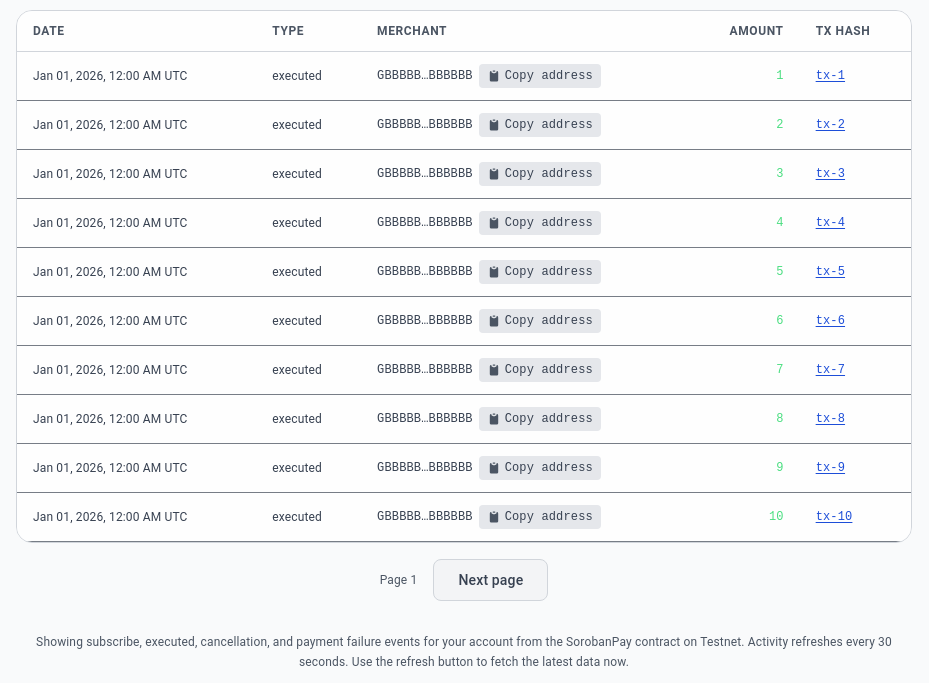
Test: HistoryPage URL pagination › updates the URL while moving between already-loaded pages
(page scrolled)
Click the button with aria-label "next payment history page" at x=491, y=580, box [433,559,548,601]
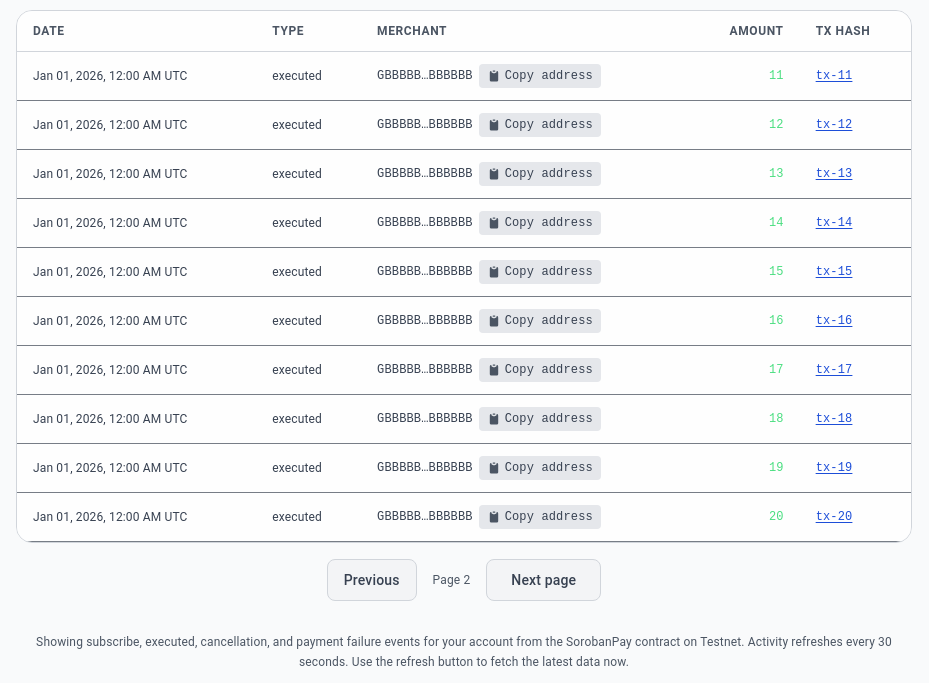
Expected: the row named "amount: 11 tokens" is shown, [17,52,911,100]
Expected: the text "Page 2" is shown, [433,572,470,588]
Click the button with aria-label "previous payment history page" at x=372, y=580, box [327,559,417,601]
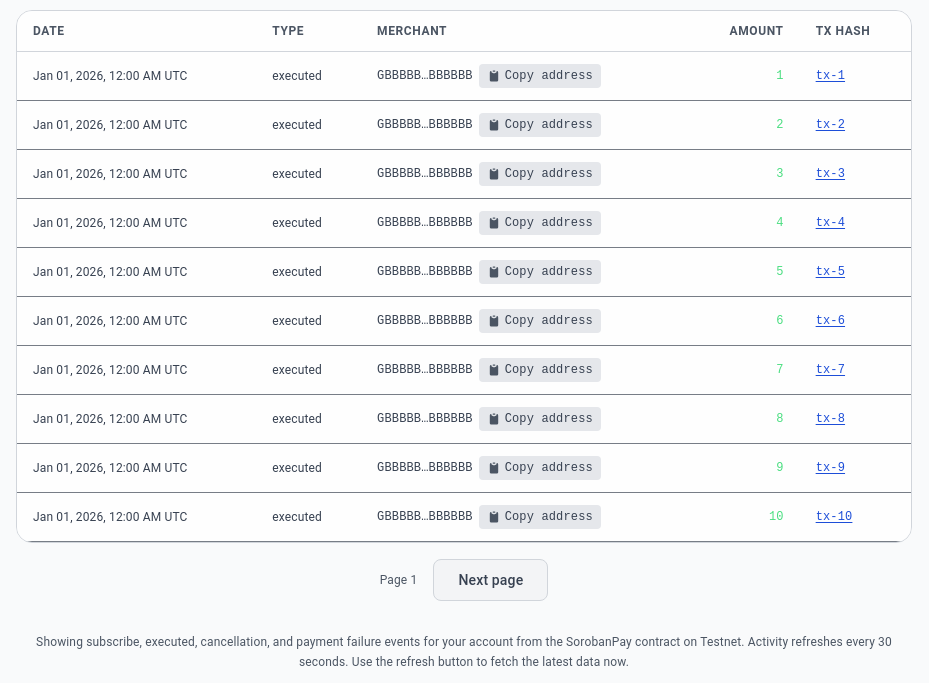
Expected: the text "Page 1" is shown, [380,572,417,588]
